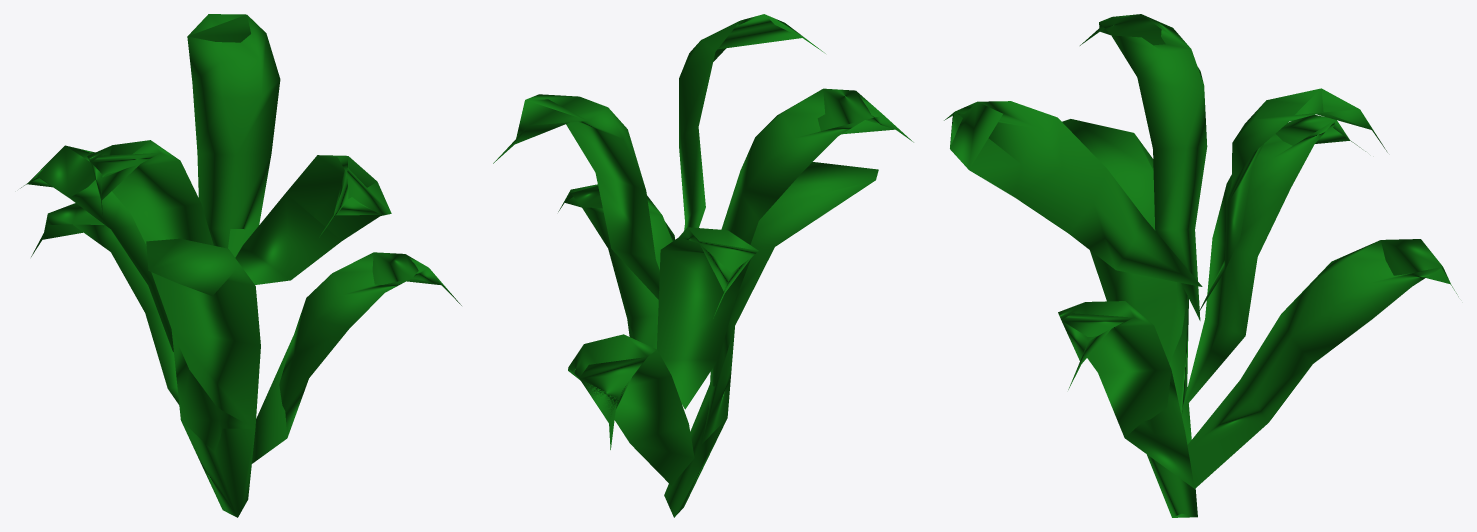
File: Plant.fbx
The picture shows the model from 3 angles, left to right: view 1: azimuth 30°, elevation 25°; view 2: azimuth 150°, elevation 25°; view 3: azimuth 270°, elevation 25°; orthographic projection. The views are drawn at different scales.
Parts seen in each view (by area): view 1: VillagerHerb; view 2: VillagerHerb; view 3: VillagerHerb.
Boxes of the visible parts, box(x1,y1,x2,y2) form: VillagerHerb: box(20, 14, 461, 517); VillagerHerb: box(493, 14, 913, 517); VillagerHerb: box(944, 14, 1458, 517).
Size of the model in its own units: 18.67 by 21.71 by 22.84.
